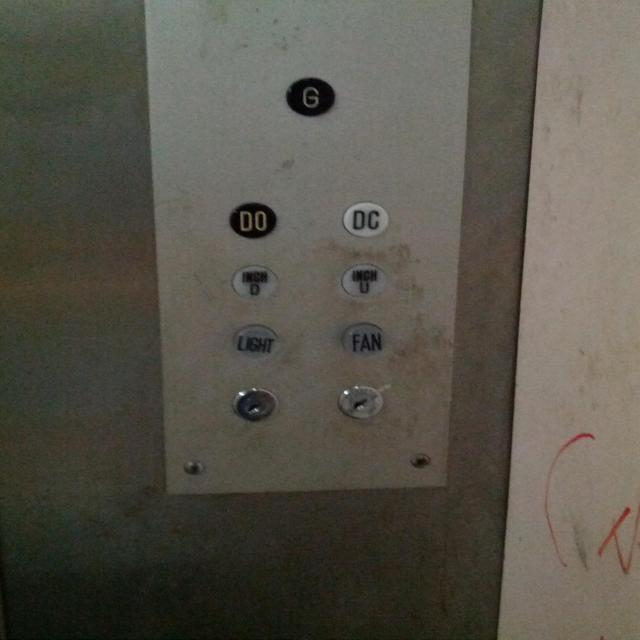DC: (341, 200, 390, 238)
DO: (228, 201, 277, 240)
G: (285, 78, 336, 116)
keyhole: (336, 384, 385, 419), (232, 387, 278, 422)
text: (340, 263, 388, 297), (231, 265, 278, 299)
text_FAN: (340, 322, 386, 357)
text_light: (232, 324, 280, 361)
